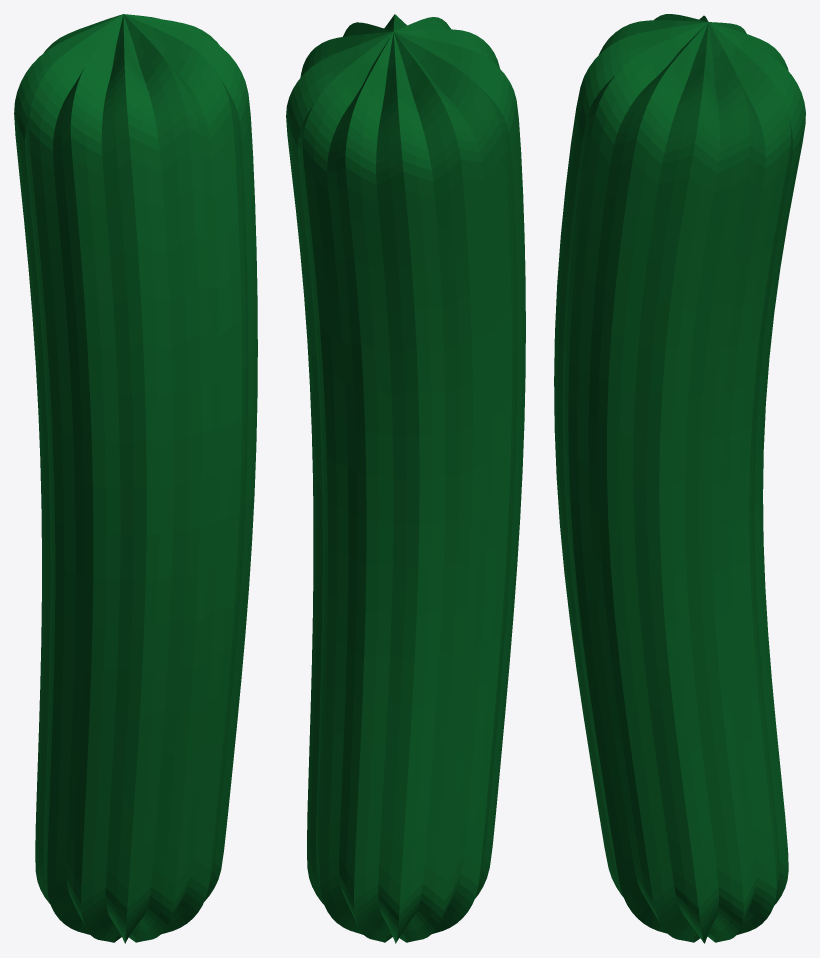
The model's file is Nature_cactus2.fbx.
The picture shows the model from 3 angles, left to right: view 1: azimuth 30°, elevation 25°; view 2: azimuth 150°, elevation 25°; view 3: azimuth 270°, elevation 25°; orthographic projection.
Visible parts, largest first — view 1: cactus 2; view 2: cactus 2; view 3: cactus 2.
Part boxes in pixels (bbox=[...]): cactus 2: bbox=[14, 14, 257, 943]; cactus 2: bbox=[286, 14, 525, 943]; cactus 2: bbox=[554, 14, 805, 943].
Bounding box in the file's own units: 0.75 × 3.2 × 0.8.
